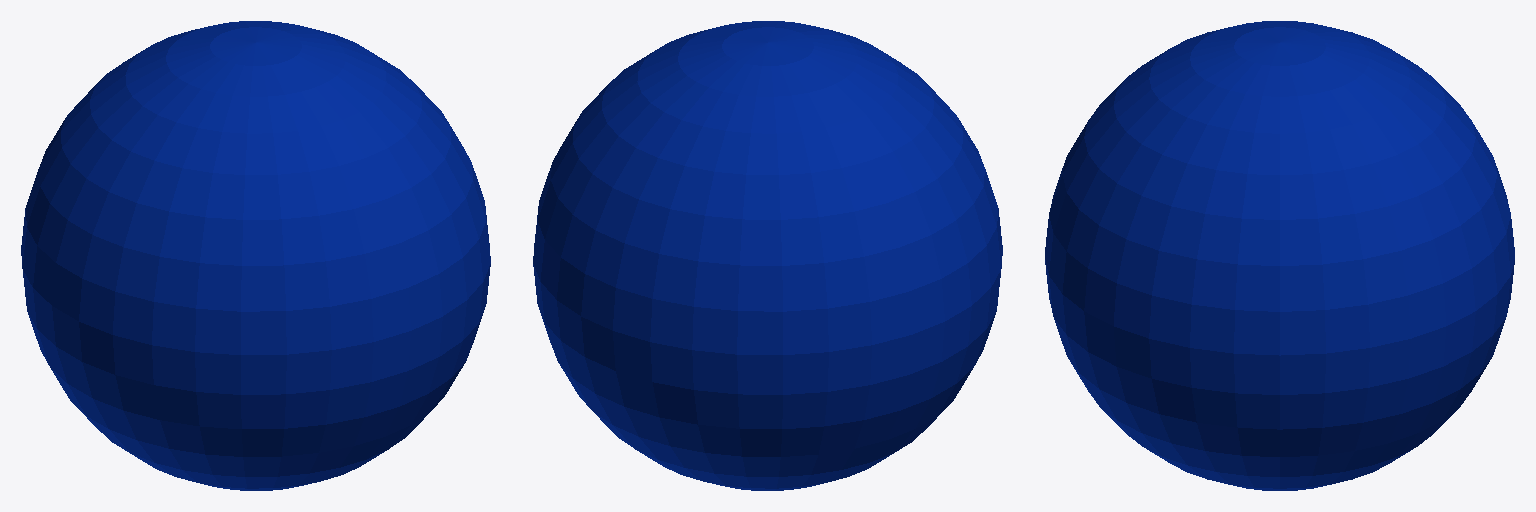
Rendered from SphereMaterial_smooth.obj.
3 renders of one model, left to right at view 1: azimuth 30°, elevation 25°; view 2: azimuth 150°, elevation 25°; view 3: azimuth 270°, elevation 25°, orthographic.
Visible parts, largest first — view 1: Sphere; view 2: Sphere; view 3: Sphere.
Part boxes in pixels (x1,y1,x2,y2): Sphere: (21, 21, 490, 490); Sphere: (533, 21, 1002, 490); Sphere: (1045, 21, 1514, 490).
Size of the model in its own units: 2 by 2 by 2.